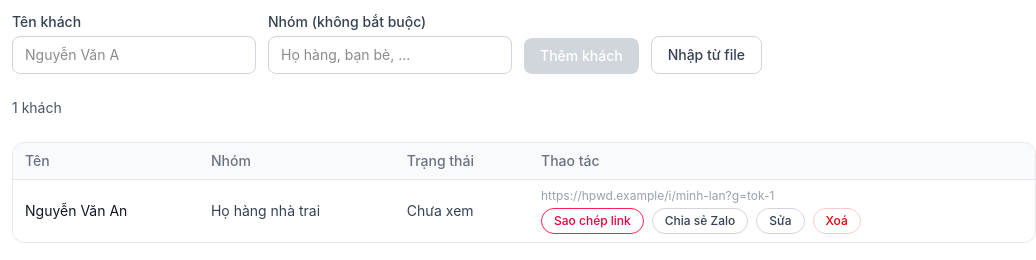
Test: GuestTable › hiện lỗi tiếng Việt của API khi sửa khách thất bại
This screenshot has width=1036, height=260.
Click the button "Sửa" at coordinates (780, 221), box top-left (756, 208), bottom-right (805, 234)
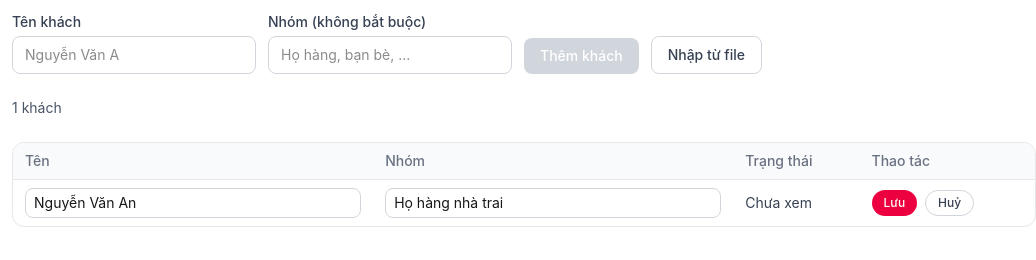
Replace the text in the 1st field showing "Nguyễn Văn An" with "X" at coordinates (193, 203), box top-left (25, 188), bottom-right (361, 218)
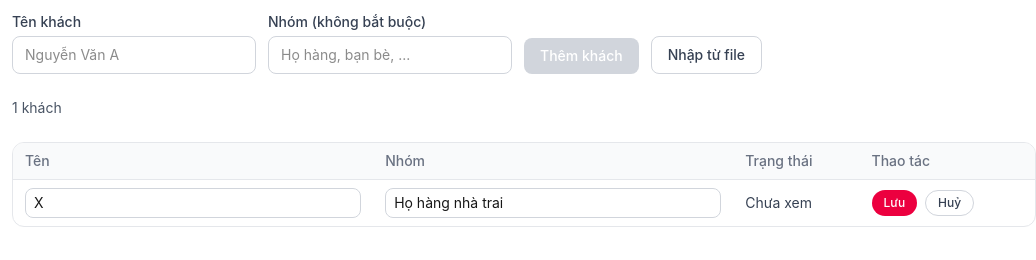
Click the button "Lưu" at coordinates (894, 203), box top-left (872, 190), bottom-right (917, 216)
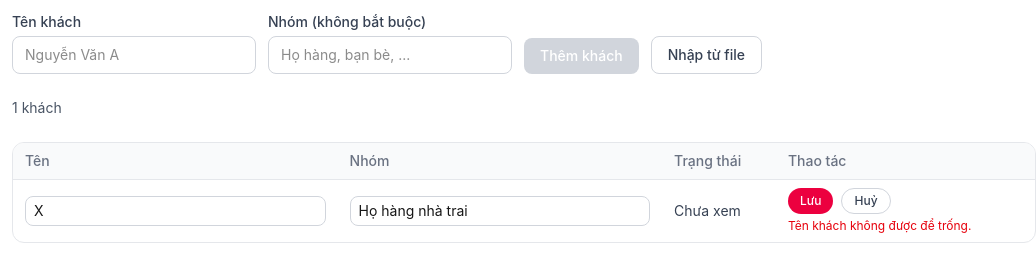
Check: the button "Lưu" is shown, box top-left (788, 188), bottom-right (834, 214)
Check: the text "Tên khách không được để trống." is shown, box top-left (788, 218), bottom-right (971, 233)
